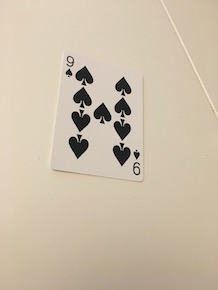NineOfSpades: (46, 46, 148, 186)
